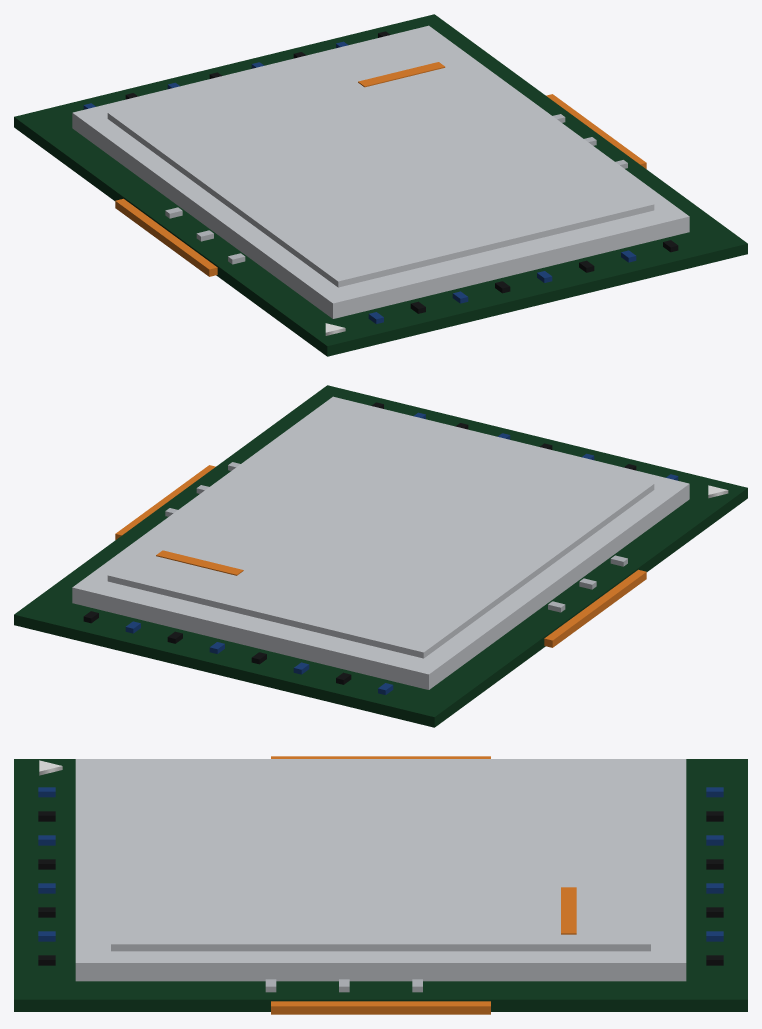
File: hw_cpu_epyc_64c.glb
3 views of the same model, one above another, from view 1: azimuth 30°, elevation 25°; view 2: azimuth 150°, elevation 25°; view 3: azimuth 270°, elevation 25° (orthographic). The views are drawn at different scales.
Visible parts, largest first — view 1: Body; view 2: Body; view 3: Body.
Part boxes in pixels (<box>): Body: <box>14,14,747,356</box>; Body: <box>14,385,747,727</box>; Body: <box>14,756,747,1014</box>.
Size of the model in its own units: 0.0608 by 0.00467 by 0.0755.
